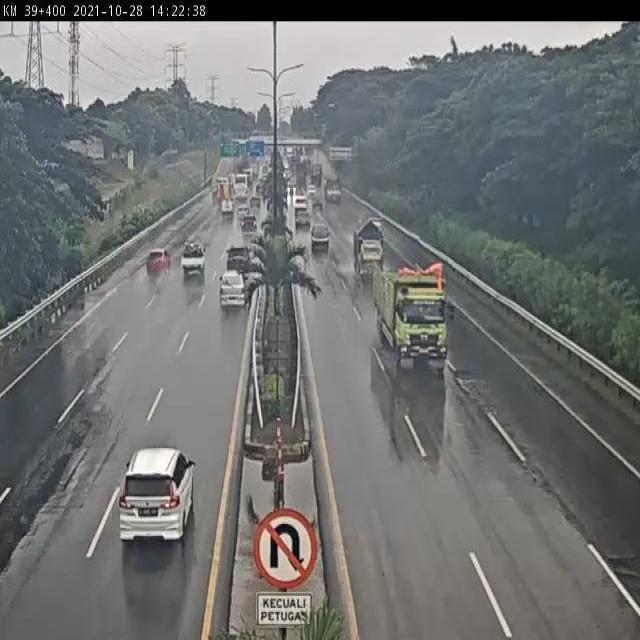truck-l-: (373, 260, 451, 372)
truck-s-: (353, 216, 387, 281)
